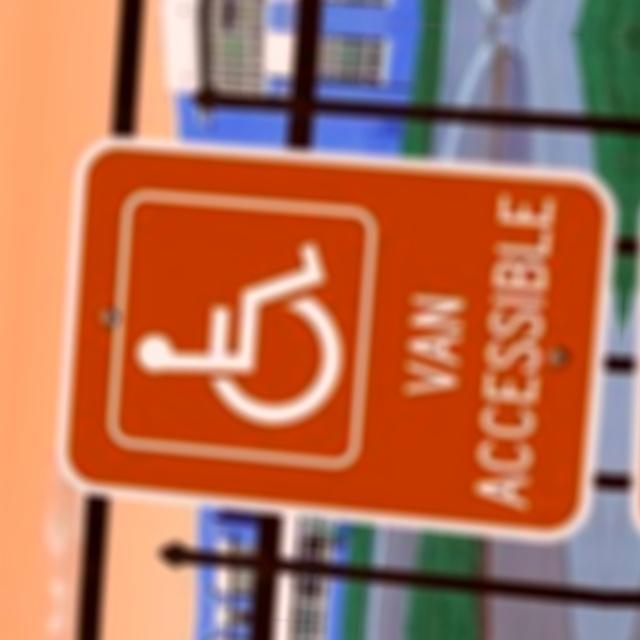ISA: (133, 230, 353, 431)
